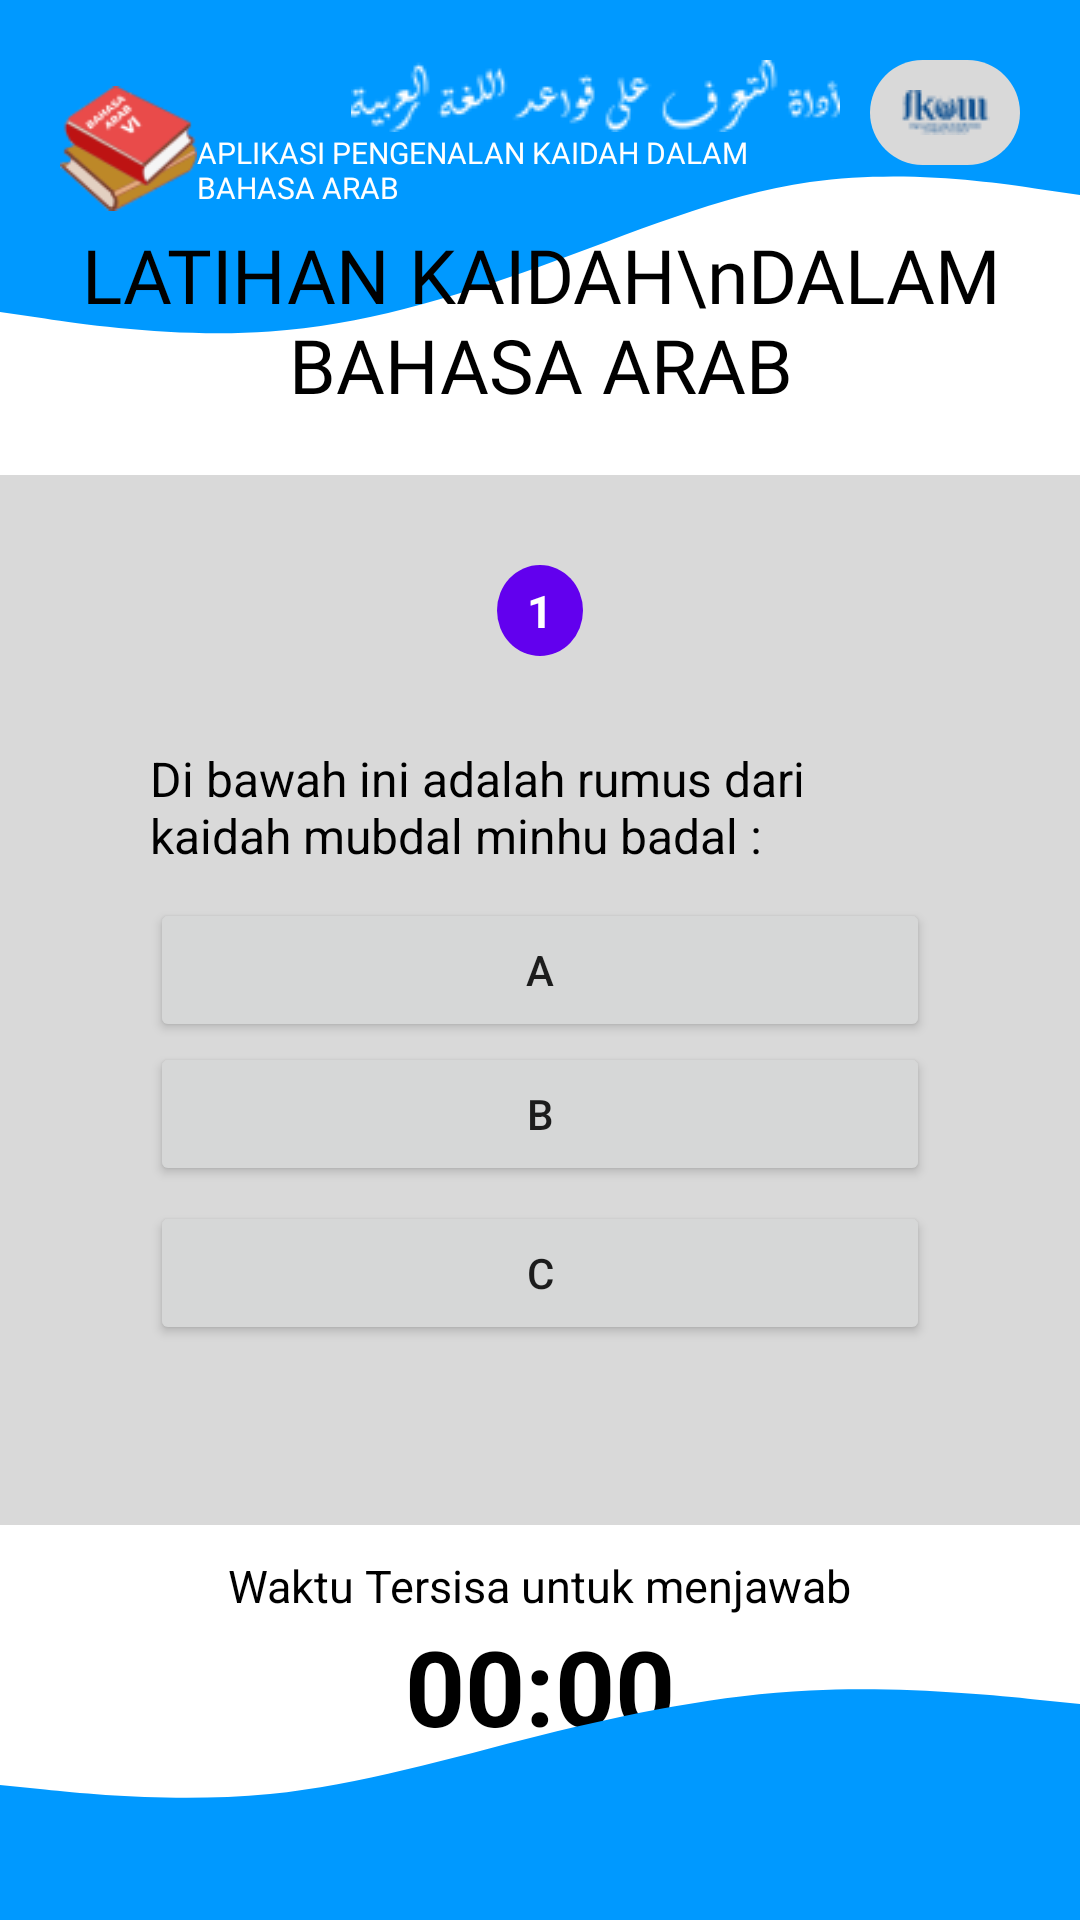

Icon bounding boxes for this 1080px×1920px phone screenshot, format (x1, y1, x2, y2):
buku: (60, 86, 197, 211)
